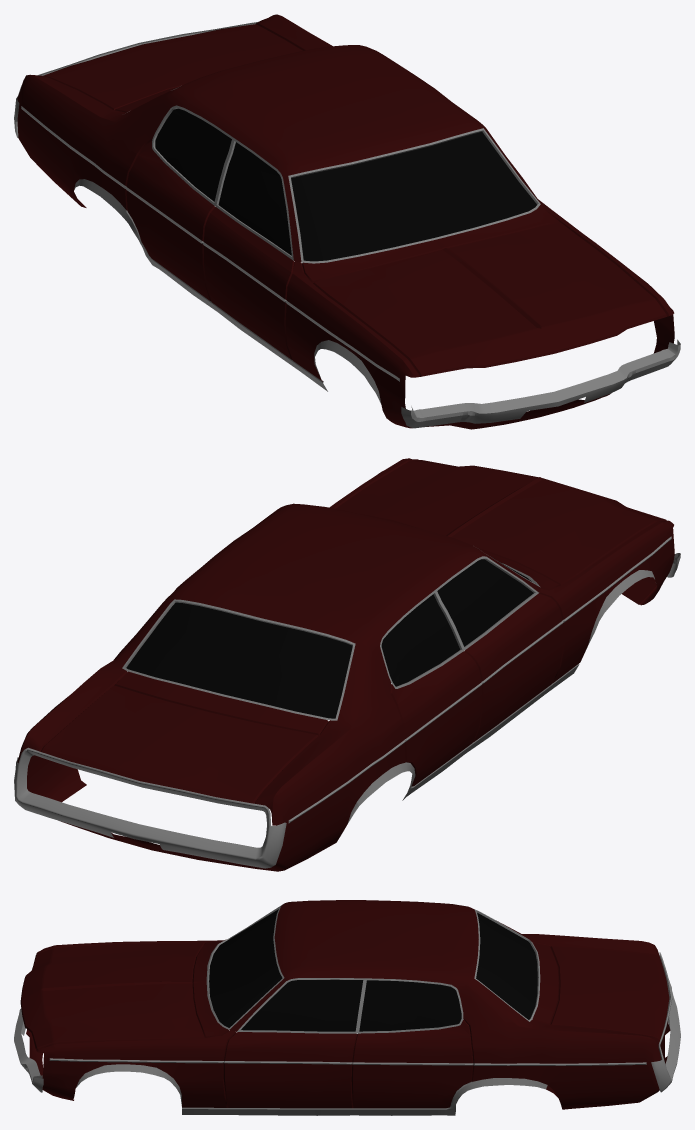
The model's file is moonshine_mahagoni.fbx.
3 views of the same model, one above another, from view 1: azimuth 30°, elevation 25°; view 2: azimuth 150°, elevation 25°; view 3: azimuth 270°, elevation 25° (orthographic). The views are drawn at different scales.
Parts seen in each view (by area): view 1: RearFender_paintable, Hood_paintable, WIndows, Trunk_paintable, RightFrontDoor_paintable, Chrome, RightRearDoor_paintable, RightFrontfenders_paintable, FrontBumper, Body_paintable, LeftFrontFender_paintable, RearBumper; view 2: RearFender_paintable, WIndows, Hood_paintable, Trunk_paintable, RightFrontDoor_paintable, RearBumper, Chrome, RightRearDoor_paintable, RightFrontfenders_paintable, Body_paintable; view 3: RearFender_paintable, WIndows, Hood_paintable, LeftFrontDoor_paintable, Trunk_paintable, LeftRearDoor_paintable, Chrome, LeftFrontFender_paintable, Body_paintable, RearBumper, FrontBumper, RightFrontfenders_paintable.
Boxes of the visible parts, x1=… form: RearFender_paintable: x1=17, y1=14, x2=540, y2=262; Hood_paintable: x1=313, y1=222, x2=667, y2=376; WIndows: x1=155, y1=108, x2=536, y2=261; Trunk_paintable: x1=43, y1=24, x2=302, y2=109; RightFrontDoor_paintable: x1=203, y1=207, x2=294, y2=359; Chrome: x1=21, y1=85, x2=540, y2=403; RightRearDoor_paintable: x1=126, y1=141, x2=214, y2=301; RightFrontfenders_paintable: x1=285, y1=261, x2=419, y2=427; FrontBumper: x1=401, y1=339, x2=680, y2=428; Body_paintable: x1=115, y1=86, x2=611, y2=429; LeftFrontFender_paintable: x1=540, y1=202, x2=674, y2=353; RearBumper: x1=14, y1=21, x2=258, y2=137; RearFender_paintable: x1=17, y1=503, x2=540, y2=871; WIndows: x1=126, y1=558, x2=533, y2=718; Hood_paintable: x1=336, y1=460, x2=666, y2=585; Trunk_paintable: x1=41, y1=685, x2=318, y2=803; RightFrontDoor_paintable: x1=464, y1=593, x2=563, y2=742; RearBumper: x1=14, y1=747, x2=286, y2=868; Chrome: x1=122, y1=536, x2=671, y2=823; RightRearDoor_paintable: x1=390, y1=651, x2=482, y2=786; RightFrontfenders_paintable: x1=539, y1=520, x2=674, y2=683; Body_paintable: x1=114, y1=550, x2=656, y2=735; RearFender_paintable: x1=229, y1=900, x2=670, y2=1109; WIndows: x1=209, y1=909, x2=537, y2=1031; Hood_paintable: x1=20, y1=942, x2=204, y2=1049; LeftFrontDoor_paintable: x1=223, y1=1032, x2=357, y2=1108; Trunk_paintable: x1=550, y1=946, x2=669, y2=1039; LeftRearDoor_paintable: x1=351, y1=1019, x2=473, y2=1108; Chrome: x1=49, y1=904, x2=646, y2=1115; LeftFrontFender_paintable: x1=36, y1=1030, x2=236, y2=1107; Body_paintable: x1=26, y1=939, x2=559, y2=1087; RearBumper: x1=651, y1=952, x2=680, y2=1092; FrontBumper: x1=14, y1=1008, x2=43, y2=1092; RightFrontfenders_paintable: x1=36, y1=940, x2=222, y2=953.
Bounding box in the file's own units: 21.34 × 12.43 × 55.04.
